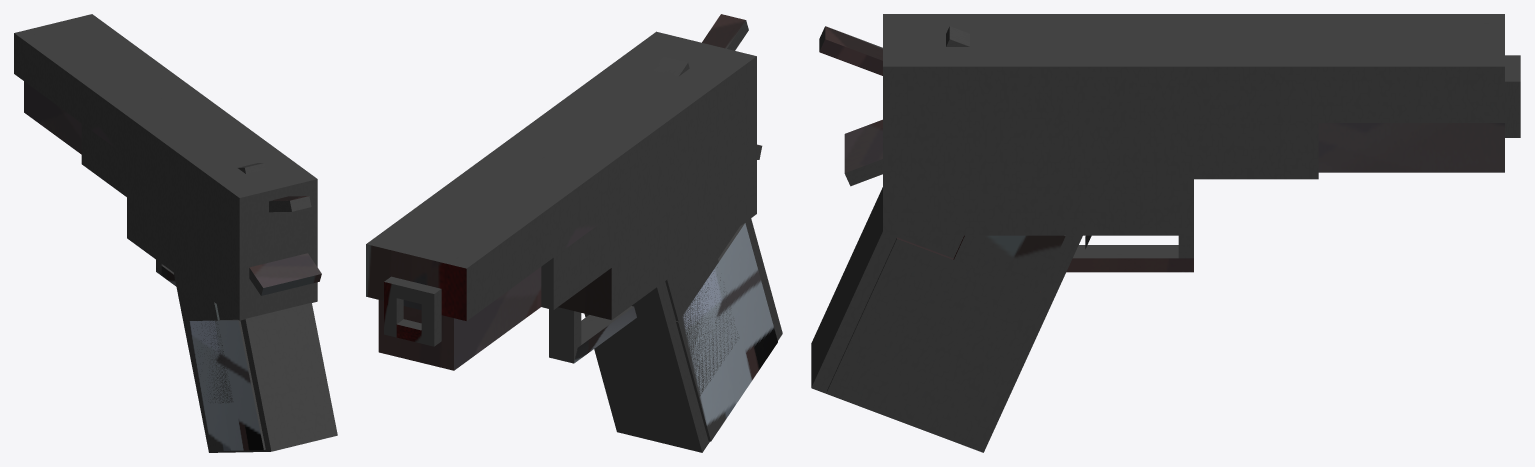
File: gun.obj
3 views of the same model, side by side, from view 1: azimuth 30°, elevation 25°; view 2: azimuth 150°, elevation 25°; view 3: azimuth 270°, elevation 25° (orthographic). The views are drawn at different scales.
Visible parts, largest first — view 1: cube; view 2: cube; view 3: cube.
Boxes of the visible parts, x1,y1,x2,y2 form: cube: (14,14,337,452); cube: (366,14,782,452); cube: (811,14,1520,452).
Size of the model in its own units: 0.125 by 0.4412 by 0.7128.
